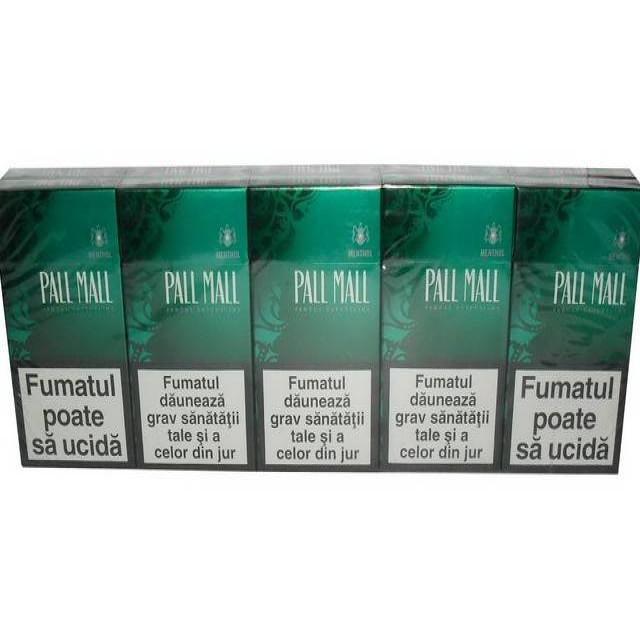pallmall: (0, 167, 136, 493), (505, 166, 640, 482), (250, 163, 380, 485), (121, 163, 252, 481), (378, 166, 515, 470)
